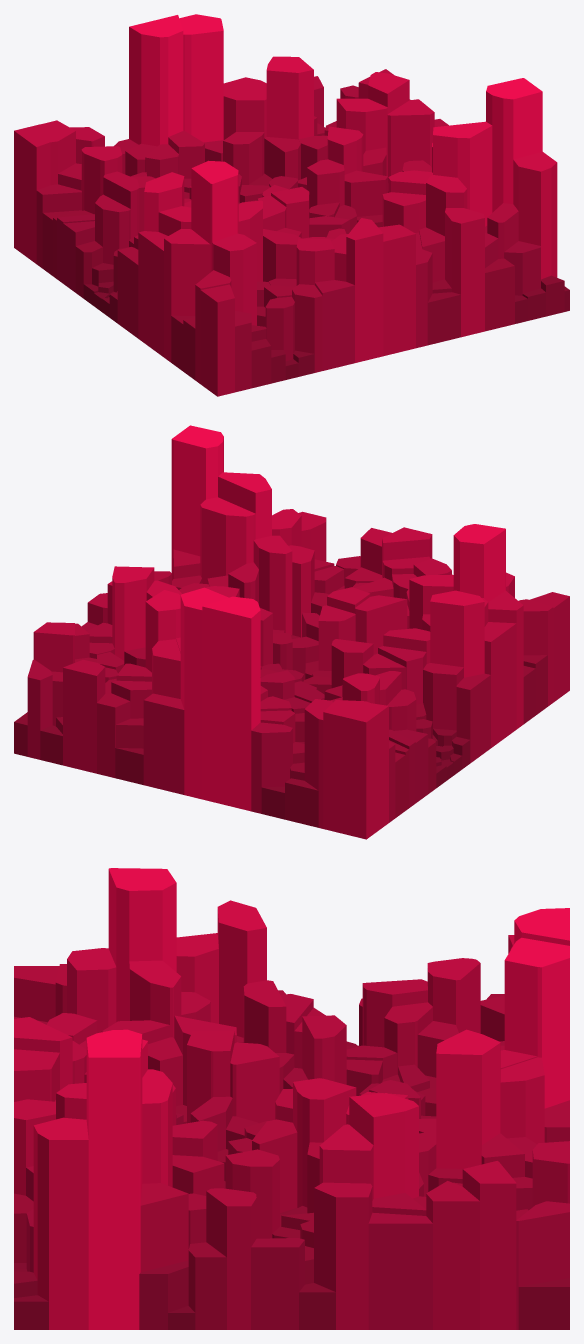
File: VTOWNr.fbx
The picture shows the model from 3 angles, top to bottom: view 1: azimuth 30°, elevation 25°; view 2: azimuth 150°, elevation 25°; view 3: azimuth 270°, elevation 25°; orthographic projection. The views are drawn at different scales.
Visible parts, largest first — view 1: オブジェクト_251, オブジェクト_103, オブジェクト_214, オブジェクト_205, オブジェクト_207, オブジェクト_100, オブジェクト_177, オブジェクト_6, オブジェクト_211, オブジェクト_51, オブジェクト_206, オブジェクト_69 (+57 smaller); view 2: オブジェクト_251, オブジェクト_51, オブジェクト_103, オブジェクト_214, オブジェクト_159, オブジェクト_276, オブジェクト_179, オブジェクト_147, オブジェクト_230, オブジェクト_244, オブジェクト_200, オブジェクト_40 (+56 smaller); view 3: オブジェクト_103, オブジェクト_207, オブジェクト_214, オブジェクト_211, オブジェクト_37, オブジェクト_154, オブジェクト_230, オブジェクト_162, オブジェクト_58, オブジェクト_200, オブジェクト_161, オブジェクト_159 (+55 smaller).
Boxes of the visible parts, <box> form: オブジェクト_251: <box>129,15,183,146</box>; オブジェクト_103: <box>486,78,542,212</box>; オブジェクト_214: <box>179,14,223,142</box>; オブジェクト_205: <box>346,218,383,362</box>; オブジェクト_207: <box>513,151,557,279</box>; オブジェクト_100: <box>445,208,484,337</box>; オブジェクト_177: <box>433,121,492,226</box>; オブジェクト_6: <box>378,224,415,356</box>; オブジェクト_211: <box>266,56,313,139</box>; オブジェクト_51: <box>14,124,50,263</box>; オブジェクト_206: <box>200,284,234,396</box>; オブジェクト_69: <box>164,229,210,362</box>; オブジェクト_251: <box>202,596,260,811</box>; オブジェクト_51: <box>340,703,388,839</box>; オブジェクト_103: <box>171,425,223,580</box>; オブジェクト_214: <box>180,587,228,799</box>; オブジェクト_159: <box>430,590,484,677</box>; オブジェクト_276: <box>63,659,105,773</box>; オブジェクト_179: <box>143,693,184,794</box>; オブジェクト_147: <box>200,497,255,583</box>; オブジェクト_230: <box>453,524,505,601</box>; オブジェクト_244: <box>484,622,516,747</box>; オブジェクト_200: <box>112,566,154,660</box>; オブジェクト_40: <box>253,535,292,634</box>; オブジェクト_103: <box>86,1029,142,1329</box>; オブジェクト_207: <box>33,1117,88,1329</box>; オブジェクト_214: <box>504,937,569,1108</box>; オブジェクト_211: <box>436,1029,500,1168</box>; オブジェクト_37: <box>368,1212,432,1329</box>; オブジェクト_154: <box>314,1182,372,1329</box>; オブジェクト_230: <box>108,868,176,1021</box>; オブジェクト_162: <box>426,1181,479,1329</box>; オブジェクト_58: <box>462,1161,516,1329</box>; オブジェクト_200: <box>349,1093,418,1198</box>; オブジェクト_161: <box>206,1188,256,1329</box>; オブジェクト_159: <box>217,900,266,1037</box>.
Size of the model in its own units: 100 by 100 by 54.
